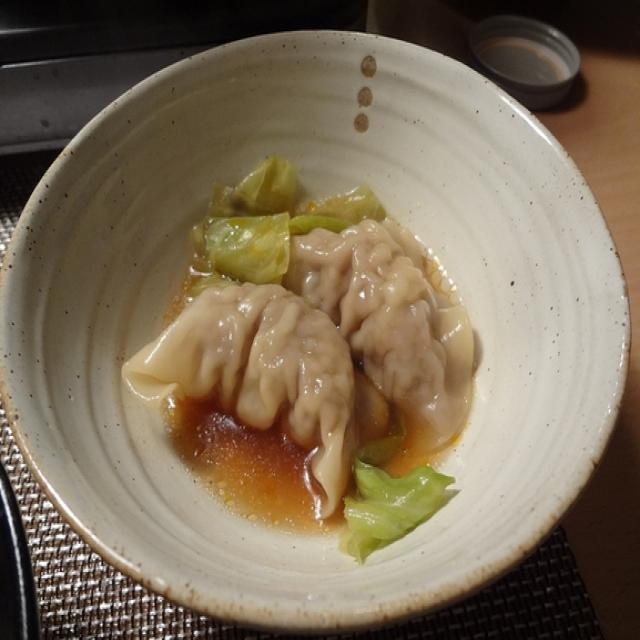带馅早点: (16, 37, 614, 599)
